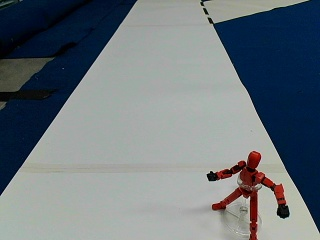pedestrian: (205, 151, 288, 227)
